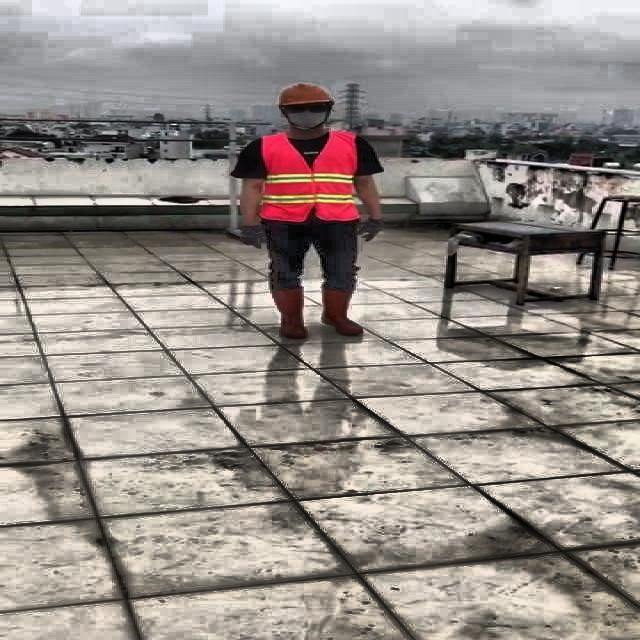safety_helmet: (278, 82, 334, 106)
safety_jacket: (261, 132, 363, 220)
